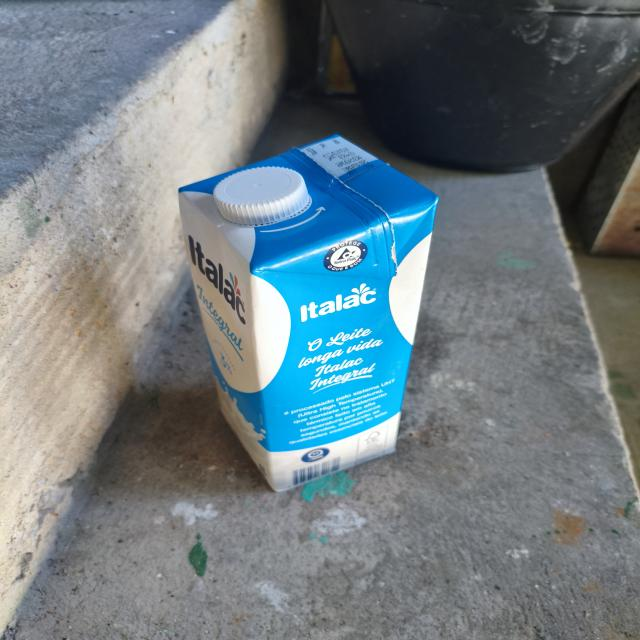Caixa de Leite: (160, 125, 417, 498)
